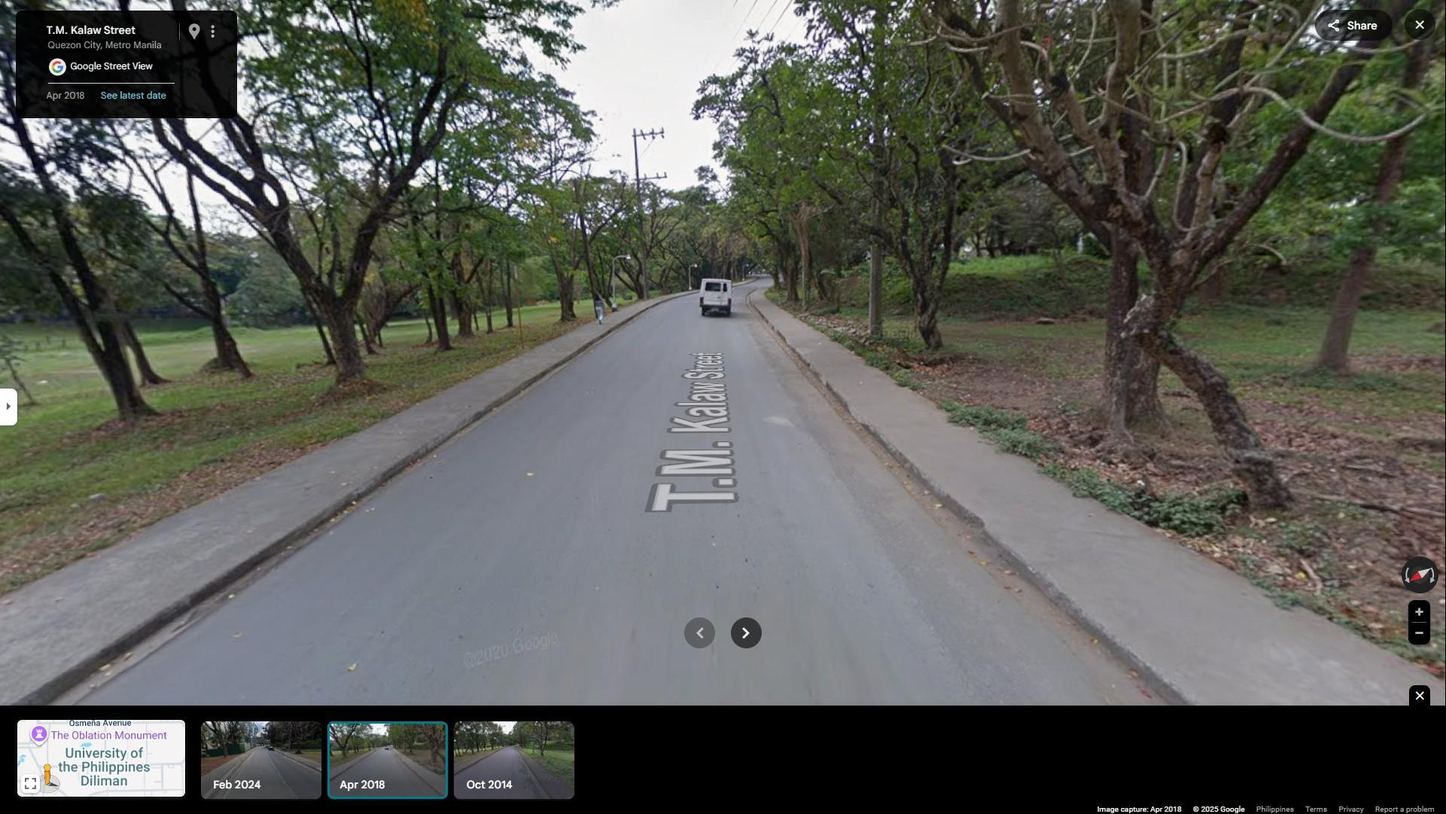pedestrian: (594, 295, 605, 324)
